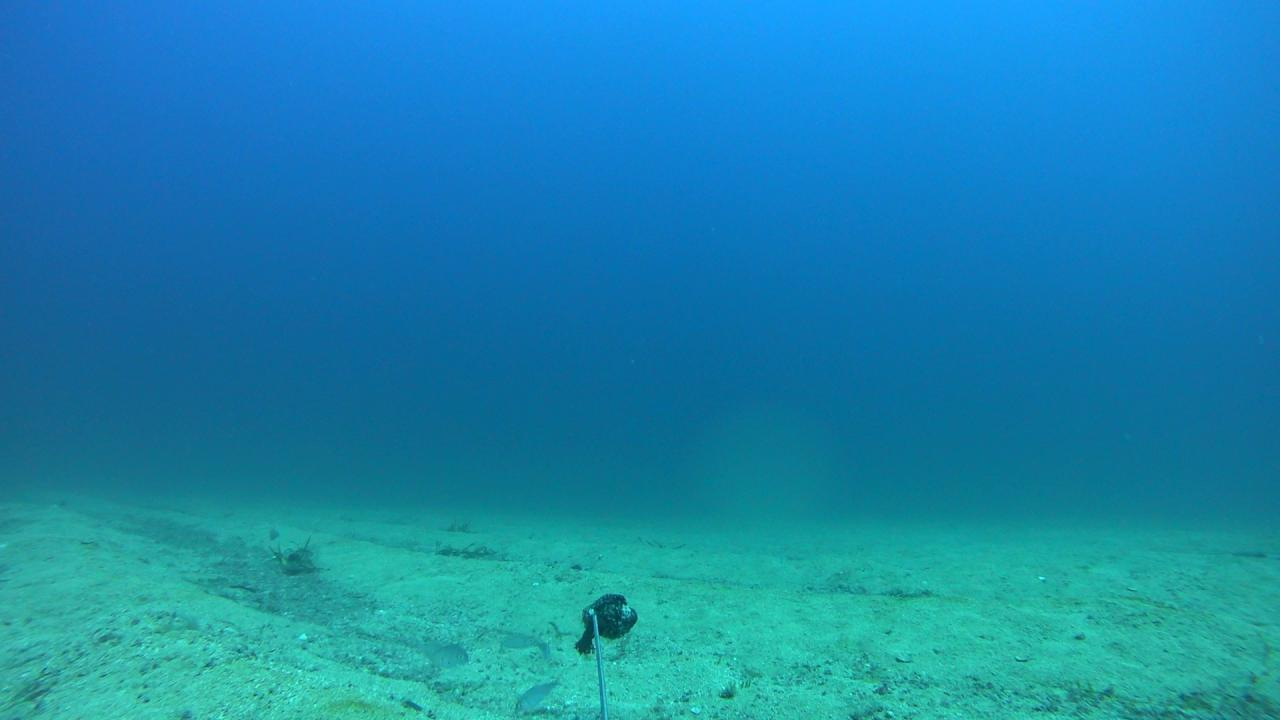pagellus: (408, 637, 468, 672), (512, 672, 561, 712)
